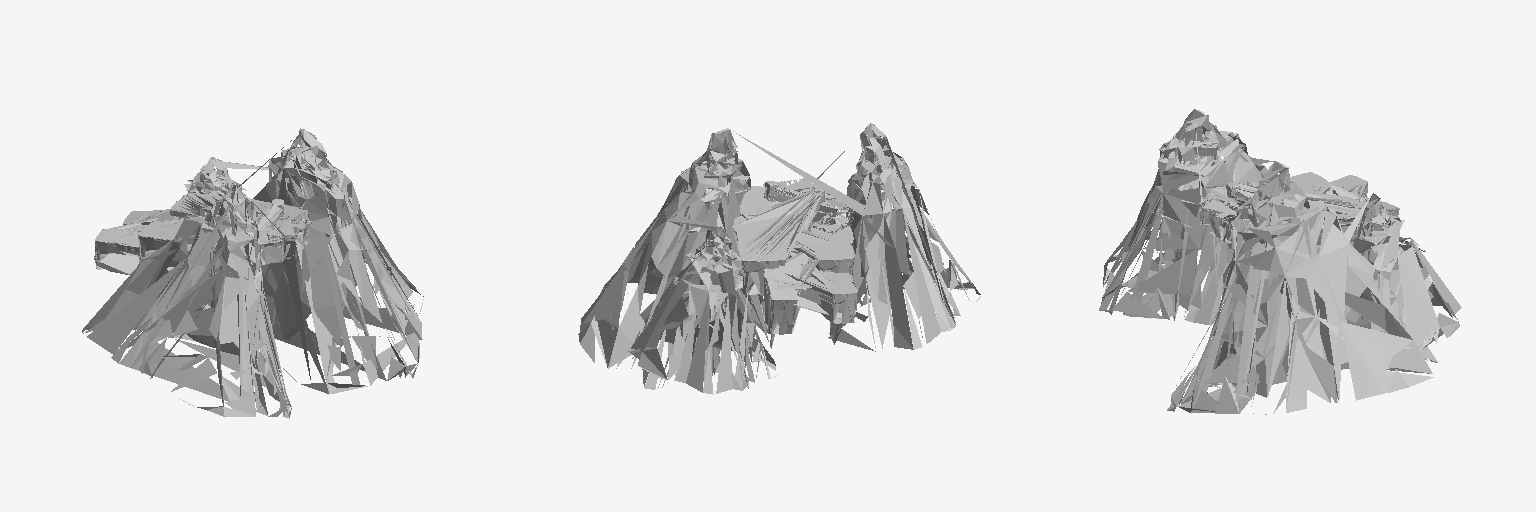
File: cellSea_MustacheIsland_Proxy-sharedassets3.assets-661.obj
3 renders of one model, left to right at view 1: azimuth 30°, elevation 25°; view 2: azimuth 150°, elevation 25°; view 3: azimuth 270°, elevation 25°, orthographic.
Visible parts, largest first — view 1: cellSea_MustacheIsland_Proxy_3, cellSea_MustacheIsland_Proxy_4, cellSea_MustacheIsland_Proxy_1, cellSea_MustacheIsland_Proxy_0; view 2: cellSea_MustacheIsland_Proxy_3, cellSea_MustacheIsland_Proxy_4, cellSea_MustacheIsland_Proxy_1, cellSea_MustacheIsland_Proxy_0; view 3: cellSea_MustacheIsland_Proxy_3, cellSea_MustacheIsland_Proxy_1, cellSea_MustacheIsland_Proxy_4.
Boxes of the visible parts, <box> form: cellSea_MustacheIsland_Proxy_3: <box>82,128,423,418</box>; cellSea_MustacheIsland_Proxy_4: <box>94,202,310,274</box>; cellSea_MustacheIsland_Proxy_1: <box>124,193,283,262</box>; cellSea_MustacheIsland_Proxy_0: <box>170,193,283,262</box>; cellSea_MustacheIsland_Proxy_3: <box>578,123,980,394</box>; cellSea_MustacheIsland_Proxy_4: <box>740,186,857,334</box>; cellSea_MustacheIsland_Proxy_1: <box>732,184,854,333</box>; cellSea_MustacheIsland_Proxy_0: <box>732,181,828,294</box>; cellSea_MustacheIsland_Proxy_3: <box>1099,109,1461,414</box>; cellSea_MustacheIsland_Proxy_1: <box>1227,172,1399,245</box>; cellSea_MustacheIsland_Proxy_4: <box>1202,172,1398,225</box>.
Size of the model in its own units: 171 by 116 by 164.